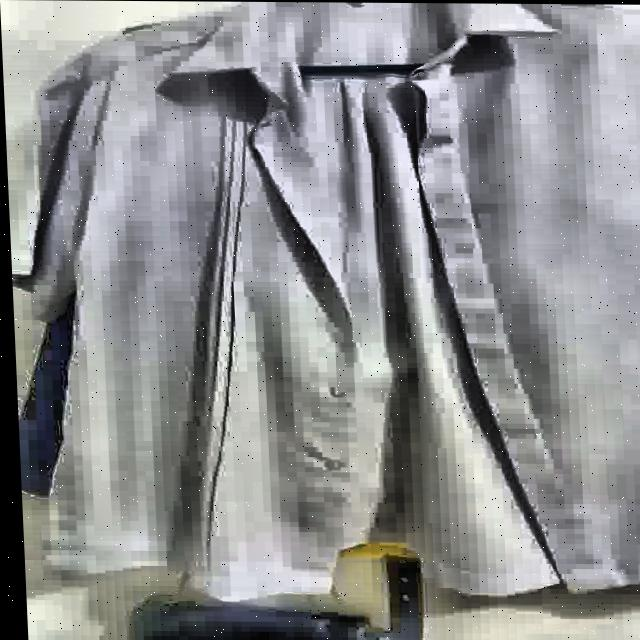clothes: (0, 0, 640, 604)
